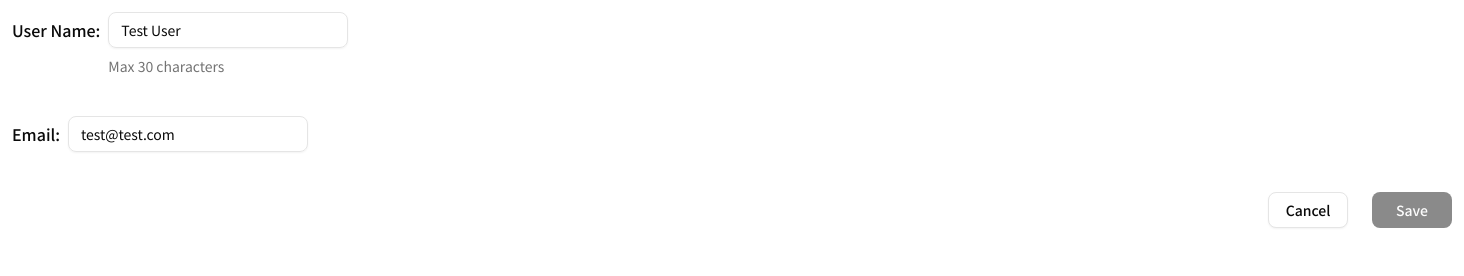
AccountInfoEditFormコンポーネントのテストコード › フォーム送信時の振る舞い › すでに登録されているメールアドレスであった場合、メールアドレスのフィールド下部にエラー文言が表示されること
Replace the text in the field labelled "Email:" with "test1@test.com" at (188, 134), box [68, 116, 308, 152]
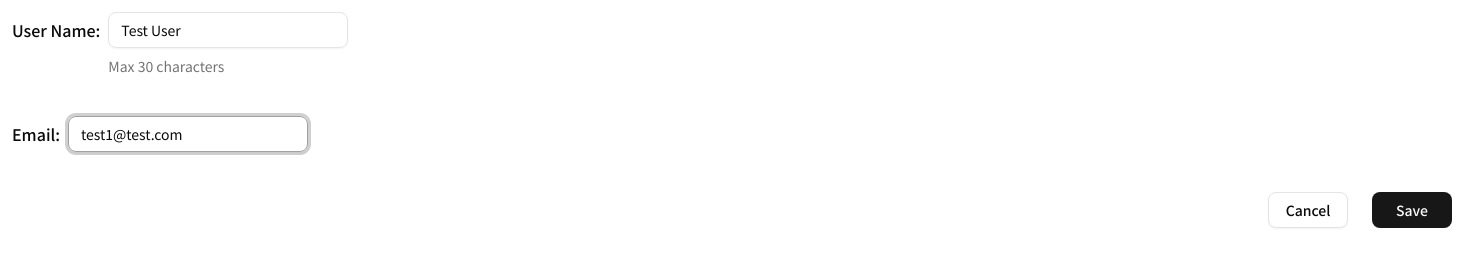
Click the button "Save" at (1412, 210), box [1372, 192, 1452, 228]
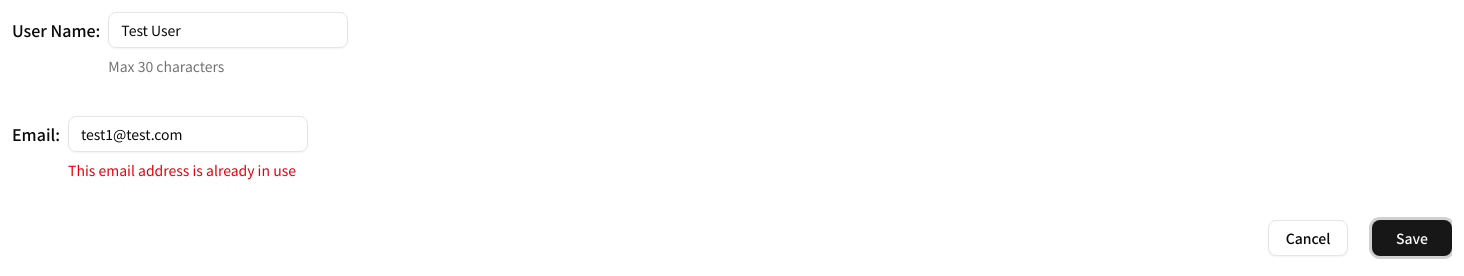
Check: the message shows "already in use", box [68, 160, 296, 180]
